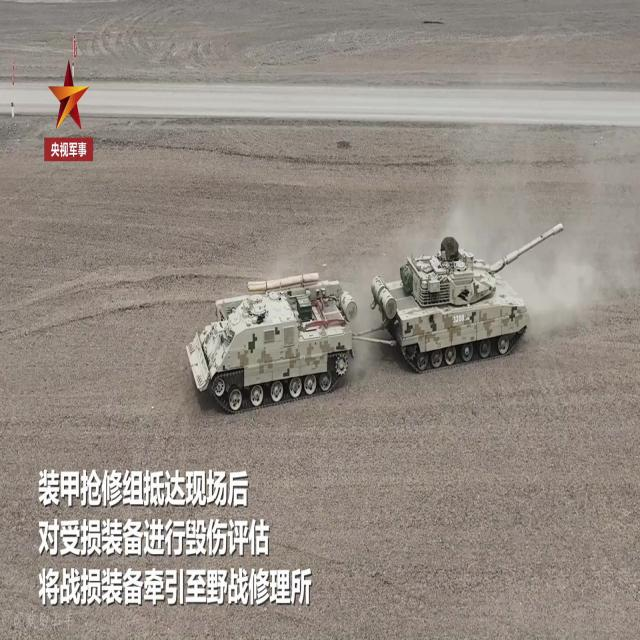tank: (185, 273, 358, 413), (368, 235, 530, 374)
